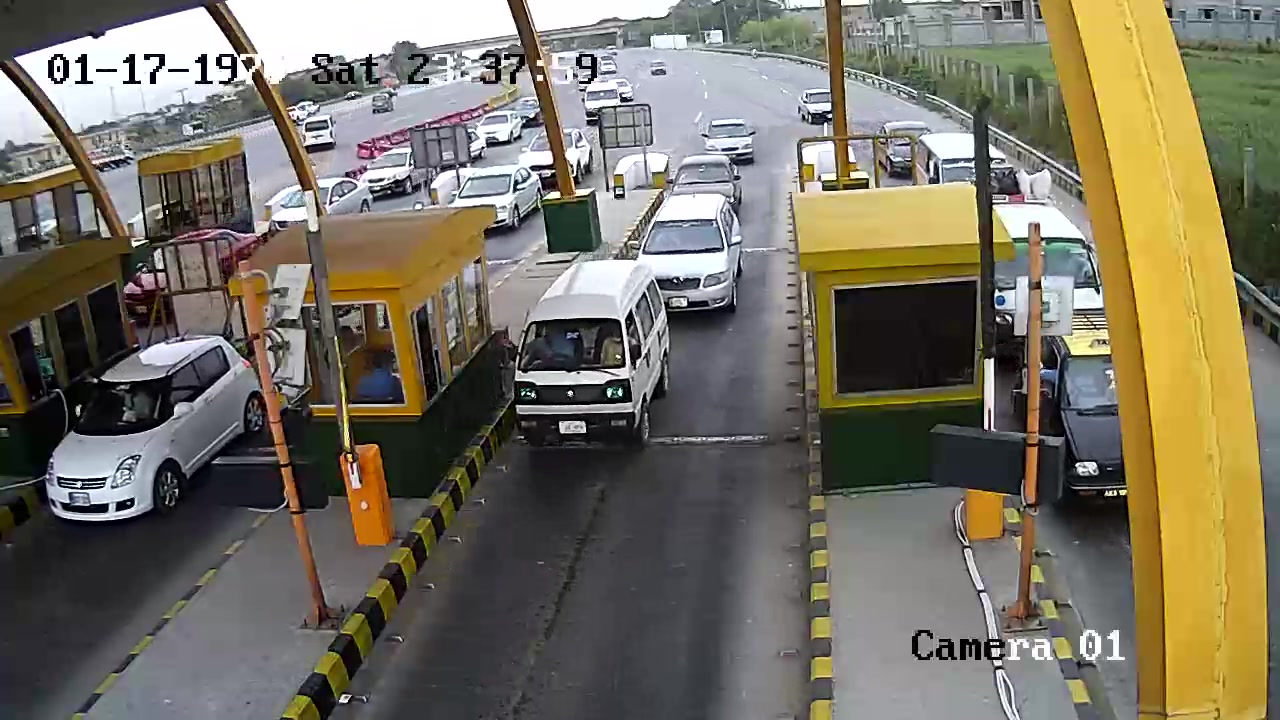F1: (508, 254, 682, 456)
